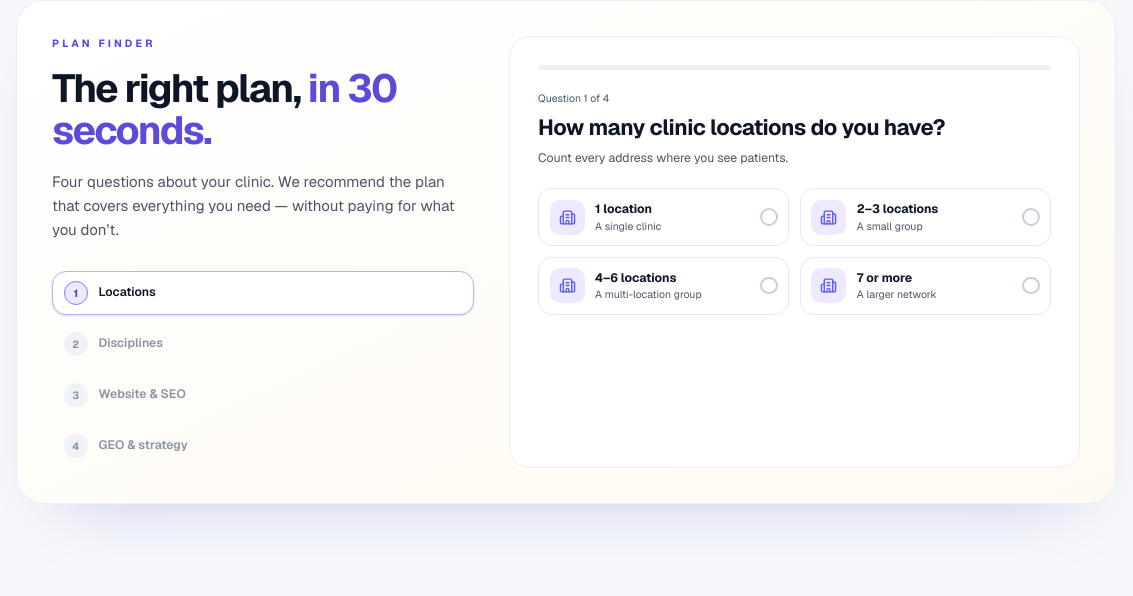
Test: plan finder › sends a very large group to a conversation instead of a price
Click the radio button labelled "7 or more A larger network".
click(925, 286)  # box x1=800 y1=256 x2=1051 y2=314
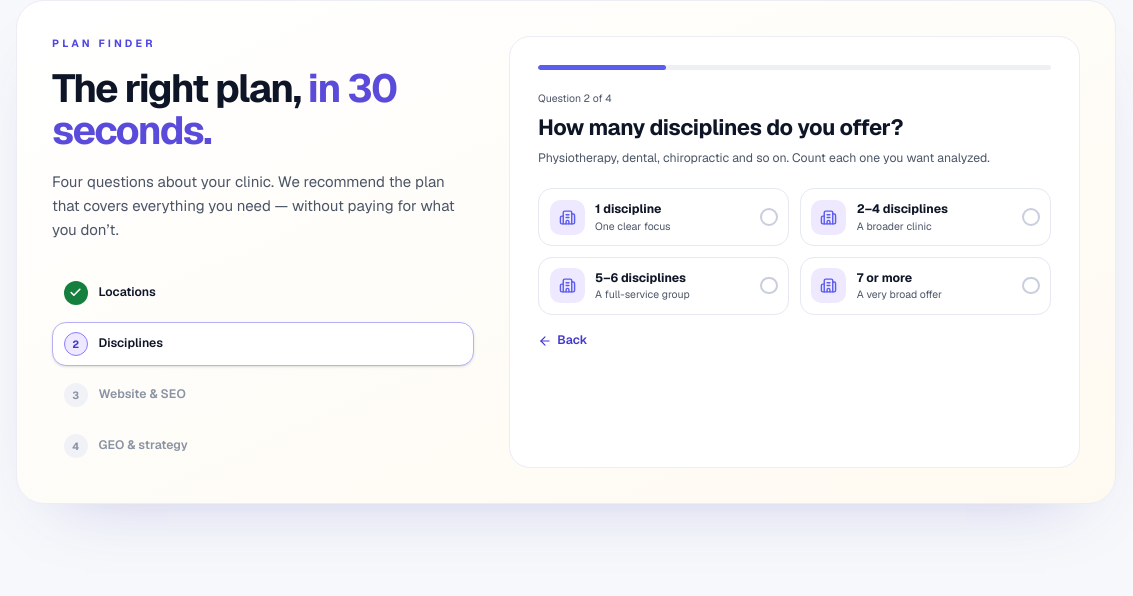
Click the radio button labelled "1 discipline One clear focus".
click(664, 217)  # box x1=538 y1=188 x2=789 y2=246
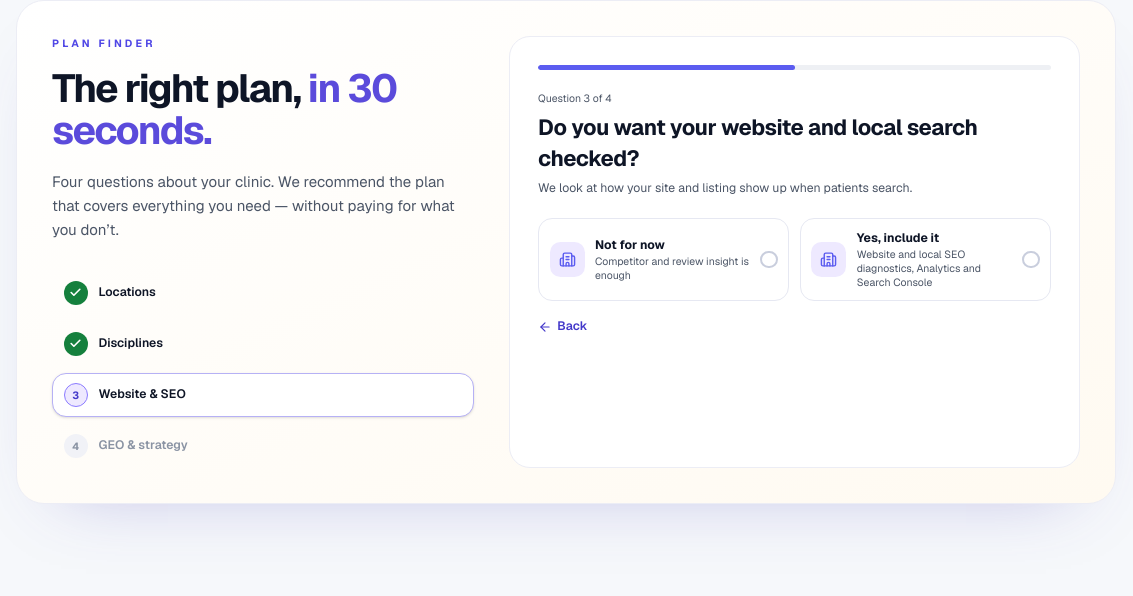
Click the radio button labelled "Not for now Competitor and review insight is enough".
click(664, 260)  # box x1=538 y1=218 x2=789 y2=301
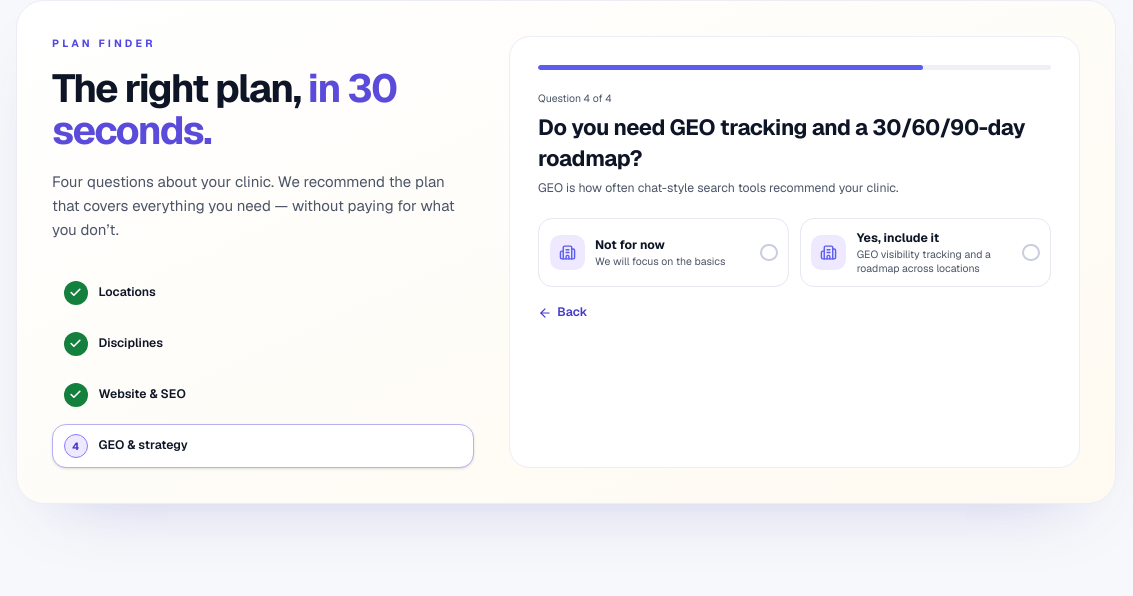
Click the radio button labelled "Not for now We will focus on the basics".
click(664, 253)  # box x1=538 y1=218 x2=789 y2=287
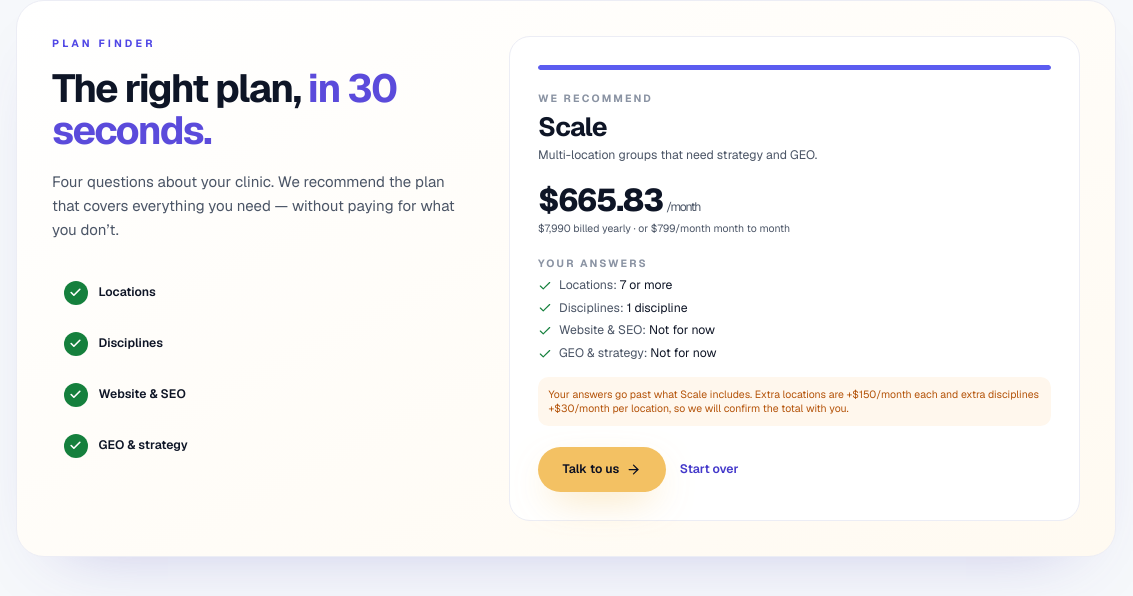
Check: the text "go past what Scale includes" is shown, box x1=548 y1=387 x2=1039 y2=415
